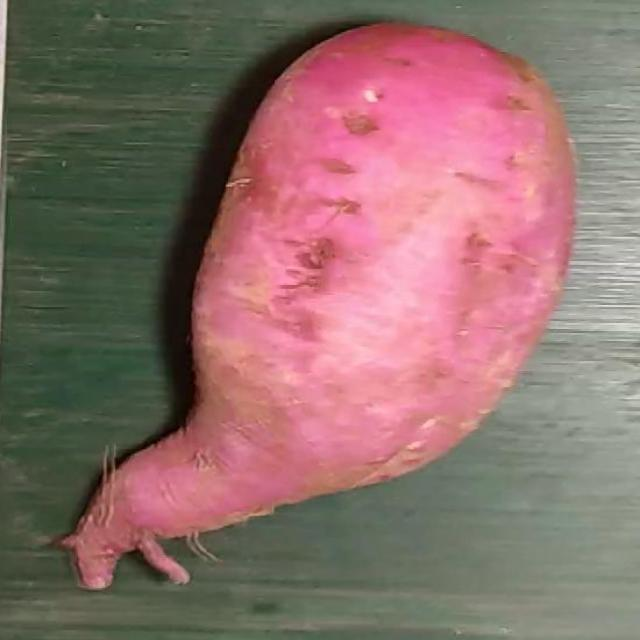Sweet Potato: (50, 21, 577, 591)
